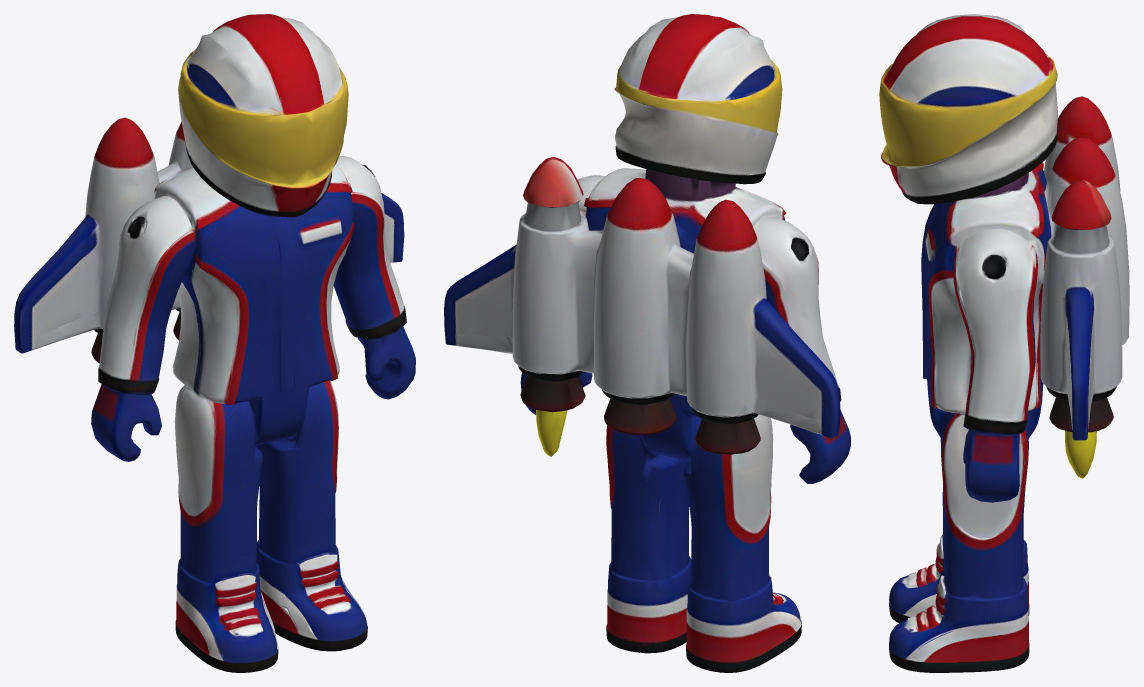
Rendered from jet.glb.
3 renders of one model, left to right at view 1: azimuth 30°, elevation 25°; view 2: azimuth 150°, elevation 25°; view 3: azimuth 270°, elevation 25°, orthographic.
Visible parts, largest first — view 1: torso, head, legL, armL, legR, armR; view 2: torso, legL, head, legR, armL, armR; view 3: torso, head, armR, legR, legL.
Part boxes in pixels (<box>): torso: <box>14,117,404,404</box>; head: <box>178,14,348,207</box>; legL: <box>174,385,285,672</box>; armL: <box>91,153,216,461</box>; legR: <box>255,380,367,651</box>; armR: <box>331,156,415,399</box>; torso: <box>444,85,840,456</box>; legL: <box>661,414,801,672</box>; head: <box>614,14,782,208</box>; legR: <box>606,425,691,653</box>; armL: <box>744,201,850,483</box>; armR: <box>520,168,635,414</box>; torso: <box>897,54,1129,478</box>; head: <box>879,14,1045,203</box>; armR: <box>933,206,1056,502</box>; legR: <box>889,388,1042,672</box>; legL: <box>889,492,1029,623</box>.
Size of the model in its own units: 2.02 by 3.04 by 1.12.
1 material, 1 textured.
